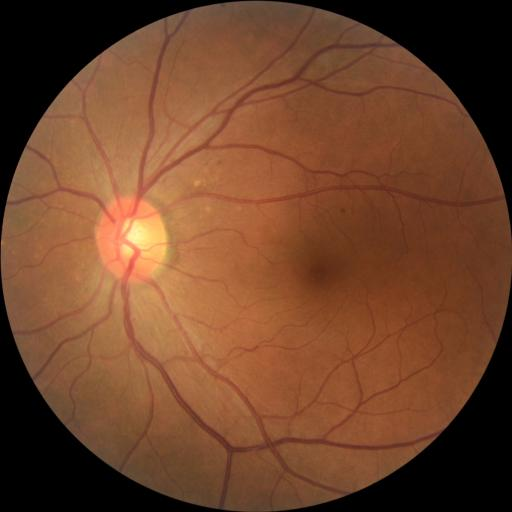Optic Cup: (117, 217, 148, 256)
Optic Disc: (95, 195, 171, 281)
